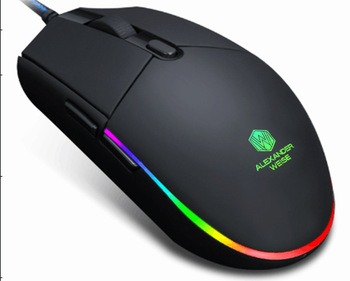mouse: (13, 6, 336, 268)
